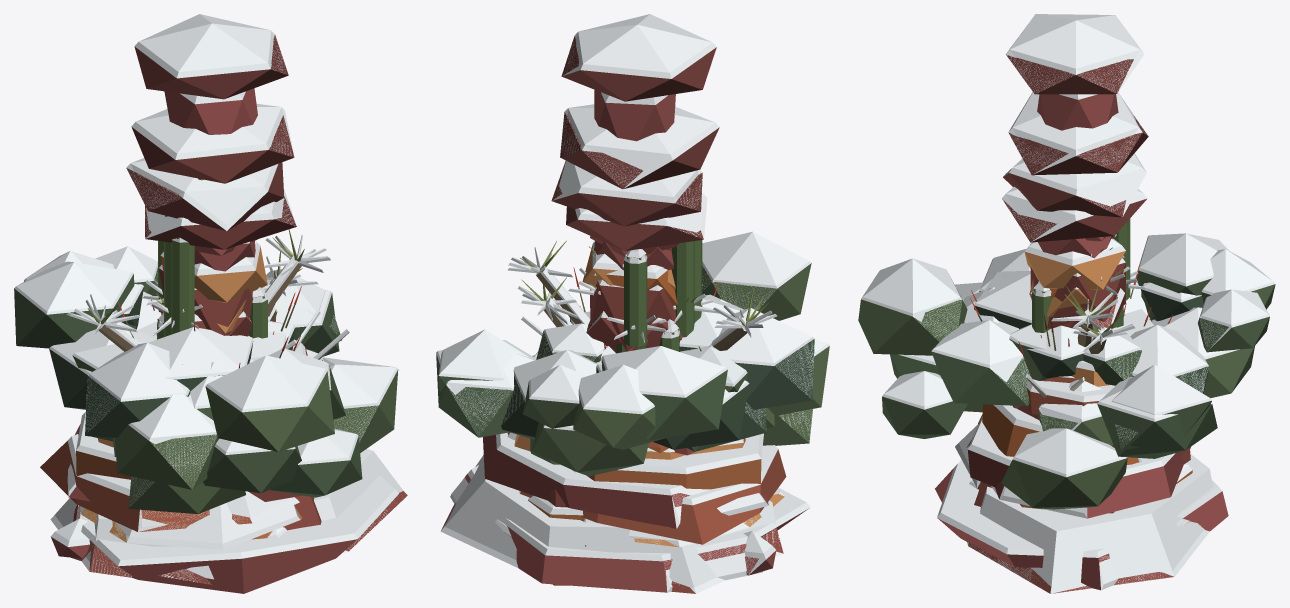
The model's file is flora_desert.glb.
3 views of the same model, side by side, from view 1: azimuth 30°, elevation 25°; view 2: azimuth 150°, elevation 25°; view 3: azimuth 270°, elevation 25° (orthographic). The views are drawn at different scales.
Parts seen in each view (by area): view 1: juniper_3_snow, juniper_3_main, juniper_1_main, sandstone_5_snow, sandstone_5_main, juniper_2_snow, juniper_1_snow, sandstone_1_snow, hoodoo_1_main, hoodoo_1_snow, hoodoo_3_main, hoodoo_3_snow (+16 smaller); view 2: sandstone_1_snow, juniper_2_main, sandstone_5_main, juniper_2_snow, hoodoo_1_main, sandstone_5_snow, hoodoo_1_snow, sandstone_1_main, juniper_1_main, juniper_0_snow, juniper_3_snow, hoodoo_3_snow (+17 smaller); view 3: sandstone_1_snow, juniper_0_snow, juniper_2_snow, juniper_0_main, juniper_3_snow, juniper_3_main, hoodoo_1_main, hoodoo_1_snow, juniper_2_main, sandstone_1_main, hoodoo_3_main, hoodoo_3_snow (+14 smaller).
Part boxes in pixels (x1,y1,x2,y2): juniper_3_snow: (148,320,358,464); juniper_3_main: (113,328,362,497); juniper_1_main: (85,365,345,513); sandstone_5_snow: (67,321,398,566); sandstone_5_main: (40,441,356,593); juniper_2_snow: (14,246,276,374); juniper_1_snow: (86,342,331,505); sandstone_1_snow: (50,339,404,583); hoodoo_1_main: (134,35,288,335); hoodoo_1_snow: (134,14,285,289); hoodoo_3_main: (131,115,294,336); hoodoo_3_snow: (131,104,293,321); sandstone_1_snow: (440,351,784,593); juniper_2_main: (523,331,749,476); sandstone_5_main: (464,449,809,592); juniper_2_snow: (529,323,749,430); hoodoo_1_main: (561,36,716,348); sandstone_5_snow: (450,362,810,592); hoodoo_1_snow: (562,14,716,290); sandstone_1_main: (441,432,784,593); juniper_1_main: (687,339,829,451); juniper_0_snow: (436,329,597,429); juniper_3_snow: (570,231,811,348); hoodoo_3_snow: (561,104,719,361); sandstone_1_snow: (955,379,1212,593); juniper_0_snow: (1012,324,1211,477); juniper_2_snow: (1084,233,1275,379); juniper_0_main: (1001,366,1217,509); juniper_3_snow: (861,258,1085,409); juniper_3_main: (858,277,1084,438); hoodoo_1_main: (1006,54,1133,328); hoodoo_1_snow: (1006,14,1144,276); juniper_2_main: (1083,270,1275,398); sandstone_1_main: (968,387,1190,593); hoodoo_3_main: (1009,116,1148,329); hoodoo_3_snow: (1008,92,1147,327).
Bounding box in the file's own units: 6.3 × 9.38 × 7.08.
